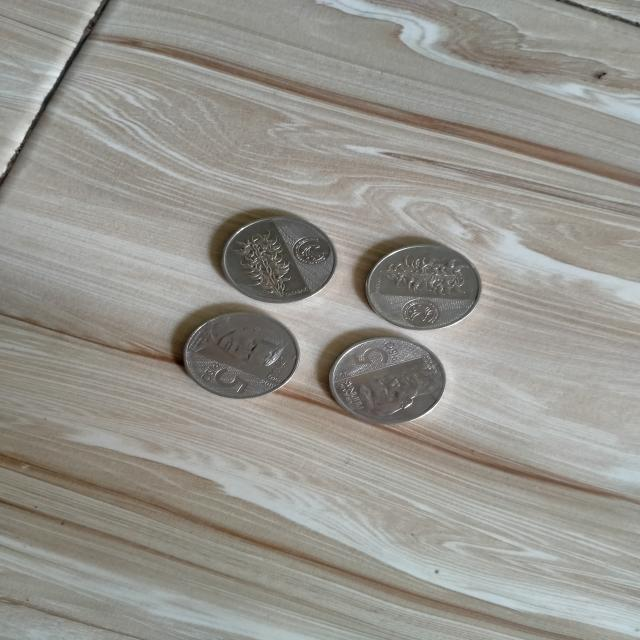5_New_Back: (225, 221, 302, 301), (369, 249, 475, 295)
5_New_Front: (192, 356, 252, 399), (342, 336, 404, 372)
